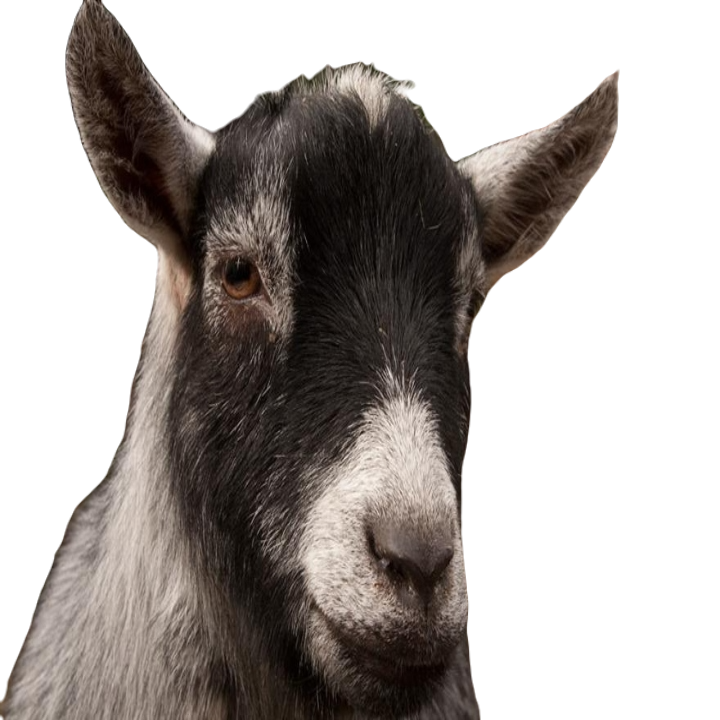Goat: (1, 0, 623, 718)
